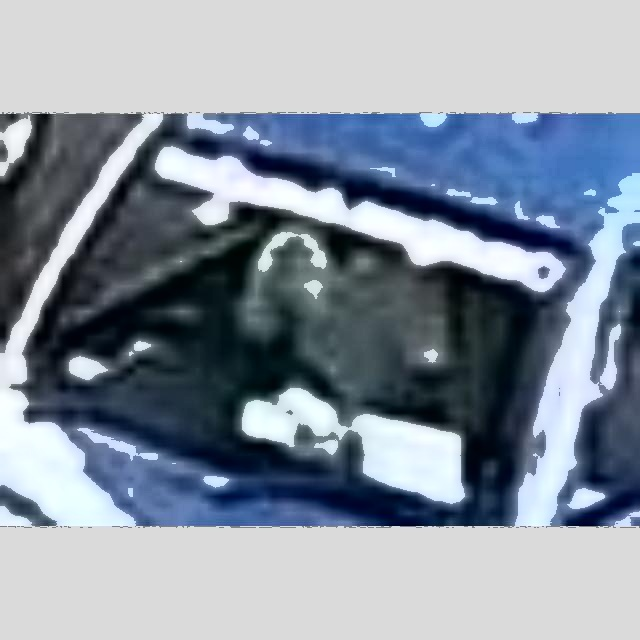tidak-pakai: (236, 181, 488, 442)
